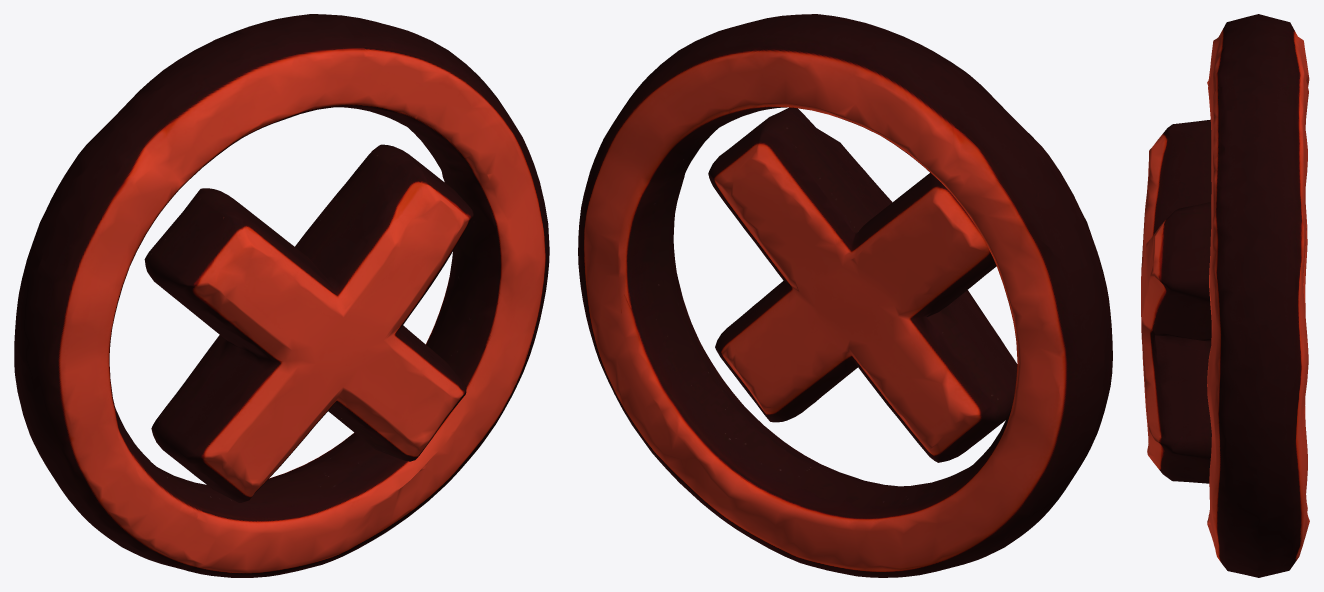
File: red_X_(error_icon).fbx
3 renders of one model, left to right at view 1: azimuth 30°, elevation 25°; view 2: azimuth 150°, elevation 25°; view 3: azimuth 270°, elevation 25°, orthographic. The views are drawn at different scales.
Parts seen in each view (by area): view 1: tripo_node_5b172004; view 2: tripo_node_5b172004; view 3: tripo_node_5b172004.
Part boxes in pixels (x1,y1,x2,y2): tripo_node_5b172004: (14,14,549,577); tripo_node_5b172004: (578,14,1112,577); tripo_node_5b172004: (1141,14,1309,577).
Size of the model in its own units: 100 by 29.79 by 99.78.
1 material, 1 textured.
